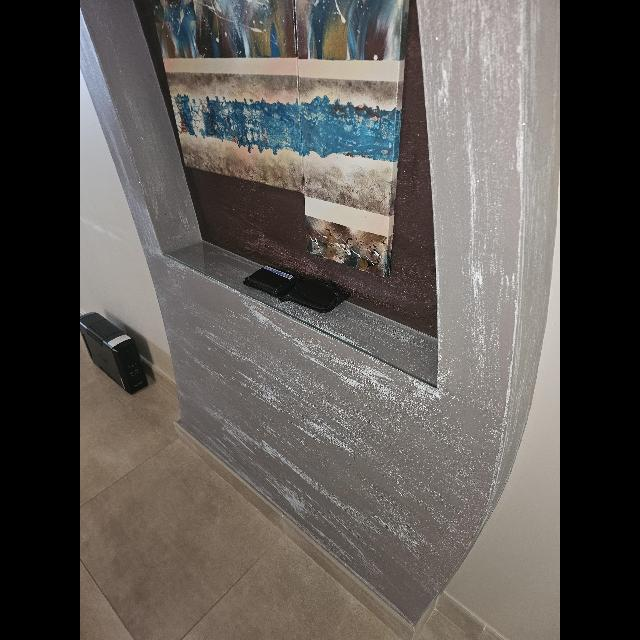Wallet: (242, 264, 350, 312)
